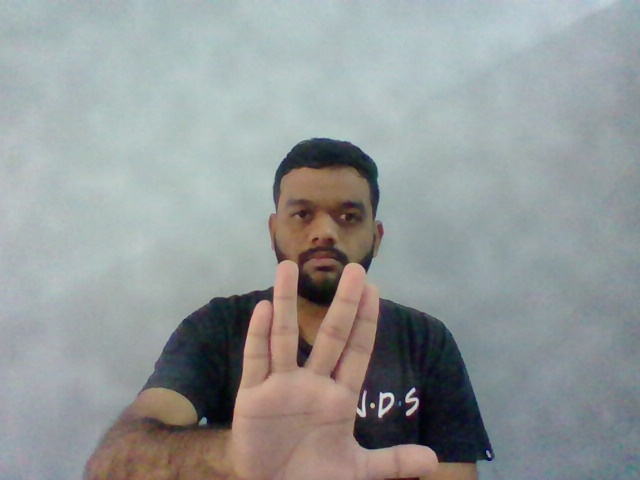Live long and prosper: (231, 259, 443, 480)
